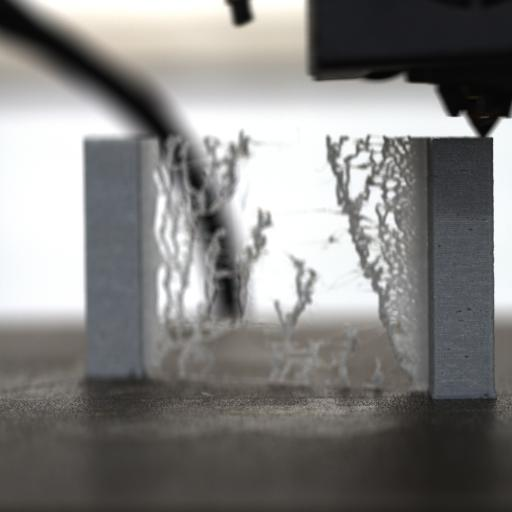stringing: (152, 128, 272, 334), (324, 134, 422, 385)
